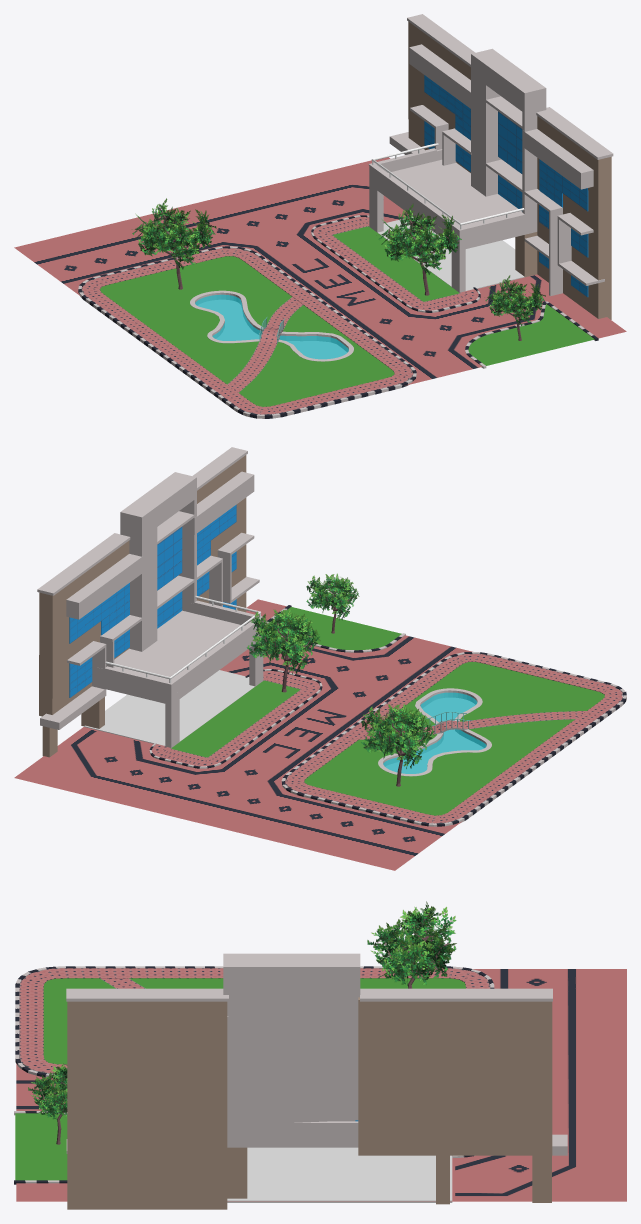
Rendered from mec.glb.
3 views of the same model, one above another, from view 1: azimuth 30°, elevation 25°; view 2: azimuth 150°, elevation 25°; view 3: azimuth 270°, elevation 25° (orthographic). The views are drawn at different scales.
Parts seen in each view (by area): view 1: Plane.007, Cube, Plane.003, path1, Cube.007, Cube.023, Circle, Cube.004, Plane.009, trunk.001, trunk.002, Plane.006 (+14 smaller); view 2: Plane.007, Cube, Plane.003, path1, Cube.023, Cube.011, Cube.005, Cube.004, Circle, Plane.006, trunk.001, trunk.002 (+12 smaller); view 3: Cube.007, Cube.005, Cube, Plane.007, Cube.011, path1, Cube.004, trunk.001, Plane.003, Plane.009, trunk.003, Cube.002 (+3 smaller).
Boxes of the visible parts, bbox=[...] form: Plane.007: bbox=[14, 157, 626, 385]; Cube: bbox=[368, 48, 546, 292]; Plane.003: bbox=[100, 256, 394, 406]; path1: bbox=[81, 248, 412, 414]; Cube.007: bbox=[537, 116, 611, 319]; Cube.023: bbox=[424, 75, 588, 297]; Circle: bbox=[190, 290, 353, 361]; Cube.004: bbox=[389, 14, 613, 165]; Plane.009: bbox=[468, 304, 594, 365]; trunk.001: bbox=[131, 198, 216, 289]; trunk.002: bbox=[378, 203, 461, 295]; Plane.006: bbox=[333, 226, 459, 301]; Plane.007: bbox=[14, 599, 472, 870]; Cube: bbox=[92, 472, 263, 747]; Plane.003: bbox=[304, 662, 604, 815]; path1: bbox=[286, 653, 622, 823]; Cube.023: bbox=[69, 504, 236, 697]; Cube.011: bbox=[84, 670, 254, 745]; Cube.005: bbox=[39, 541, 129, 716]; Cube.004: bbox=[37, 447, 247, 729]; Circle: bbox=[378, 688, 491, 776]; Plane.006: bbox=[171, 680, 300, 757]; trunk.001: bbox=[361, 703, 434, 786]; trunk.002: bbox=[247, 608, 320, 692]; Cube.007: bbox=[67, 1001, 227, 1209]; Cube.005: bbox=[358, 997, 552, 1155]; Cube: bbox=[223, 953, 360, 1147]; Plane.007: bbox=[16, 969, 626, 1201]; Cube.011: bbox=[227, 1147, 452, 1202]; path1: bbox=[19, 968, 489, 1073]; Cube.004: bbox=[66, 988, 567, 1155]; trunk.001: bbox=[367, 901, 456, 988]; Plane.003: bbox=[43, 978, 465, 1064]; Plane.009: bbox=[15, 1113, 67, 1180]; trunk.003: bbox=[28, 1063, 67, 1144]; Cube.002: bbox=[15, 966, 494, 1077].
Size of the model in its own units: 21.17 by 10.09 by 23.17.
Materials: 7 (4 with a texture image).
